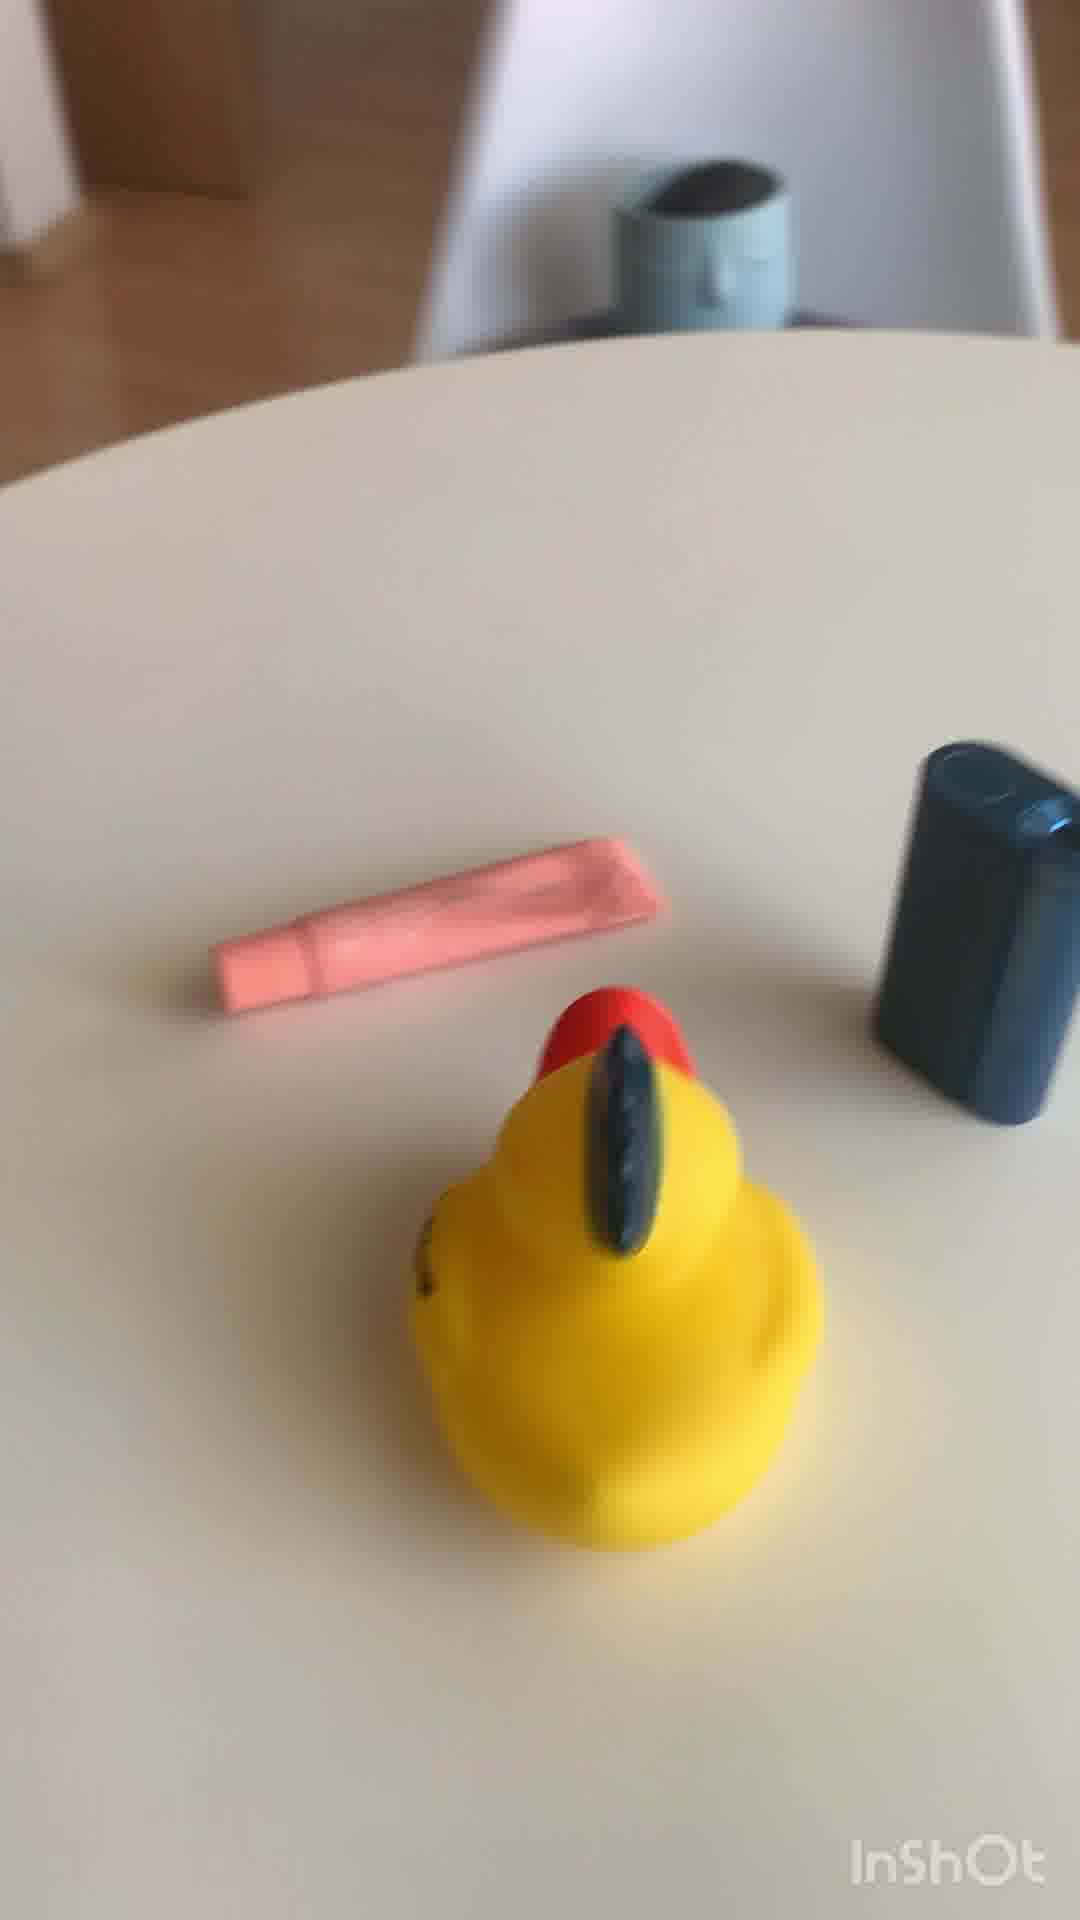duck: (407, 986, 823, 1557)
glo: (872, 738, 1073, 1134)
lip balm: (193, 836, 667, 1015)
